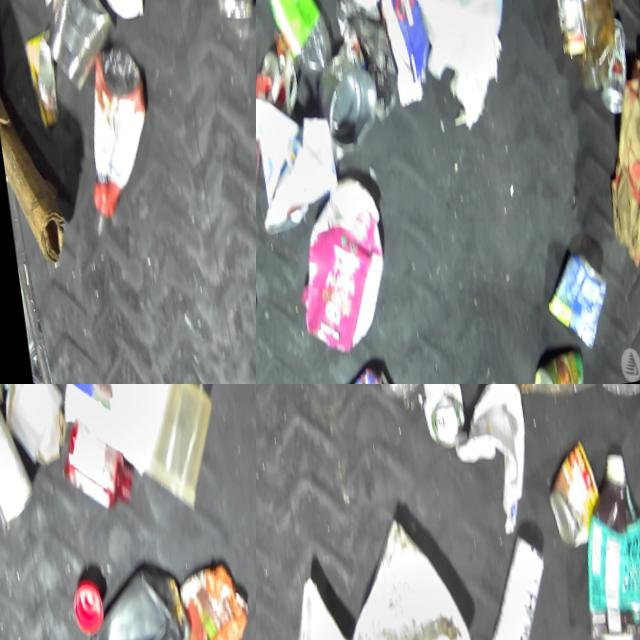can: (539, 249, 617, 362), (35, 0, 122, 97), (313, 46, 386, 159), (539, 441, 606, 557), (589, 19, 637, 124), (0, 405, 38, 535), (413, 384, 470, 455), (256, 50, 302, 124), (528, 352, 587, 384), (334, 362, 399, 384)
non_white_jug: (285, 172, 399, 365), (566, 447, 640, 640)
plastic_bottle: (260, 0, 336, 92)
